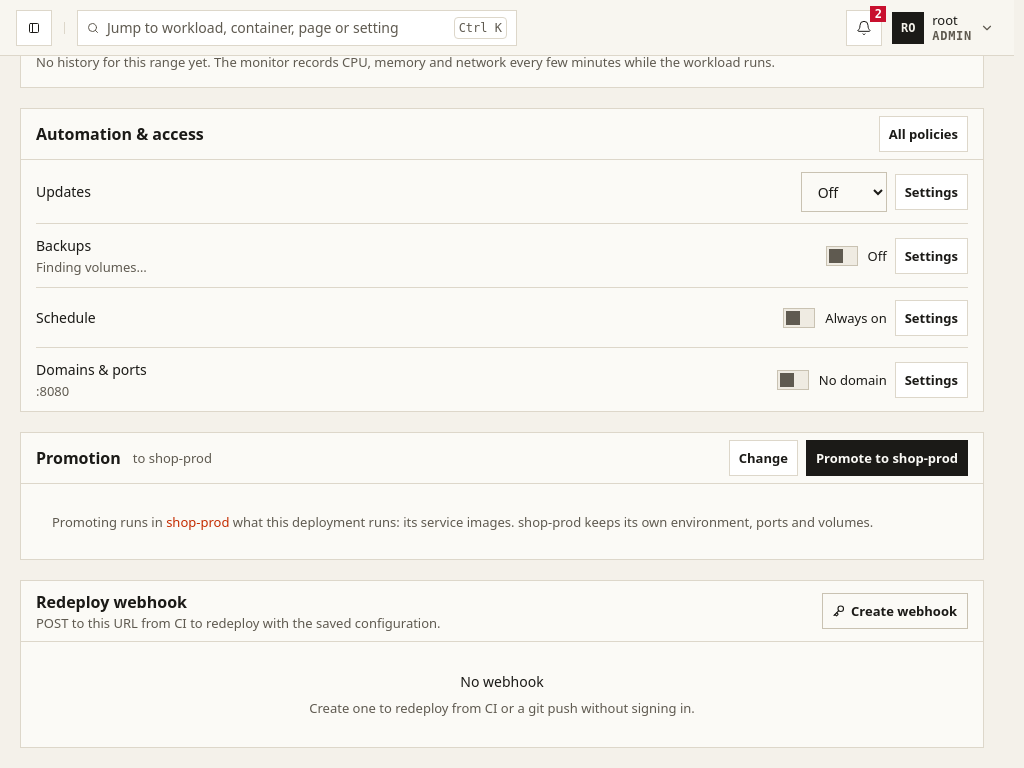
Test: promotion panel › shows the plan and promotes
(page scrolled)
Expected: the text "to shop-prod" is shown, x1=133 y1=448 x2=212 y2=468
Expected: the text "its own environment, ports and volumes" is shown, x1=581 y1=513 x2=873 y2=531
Click the button "Promote to shop-prod" at (887, 458), box x1=806 y1=440 x2=968 y2=476
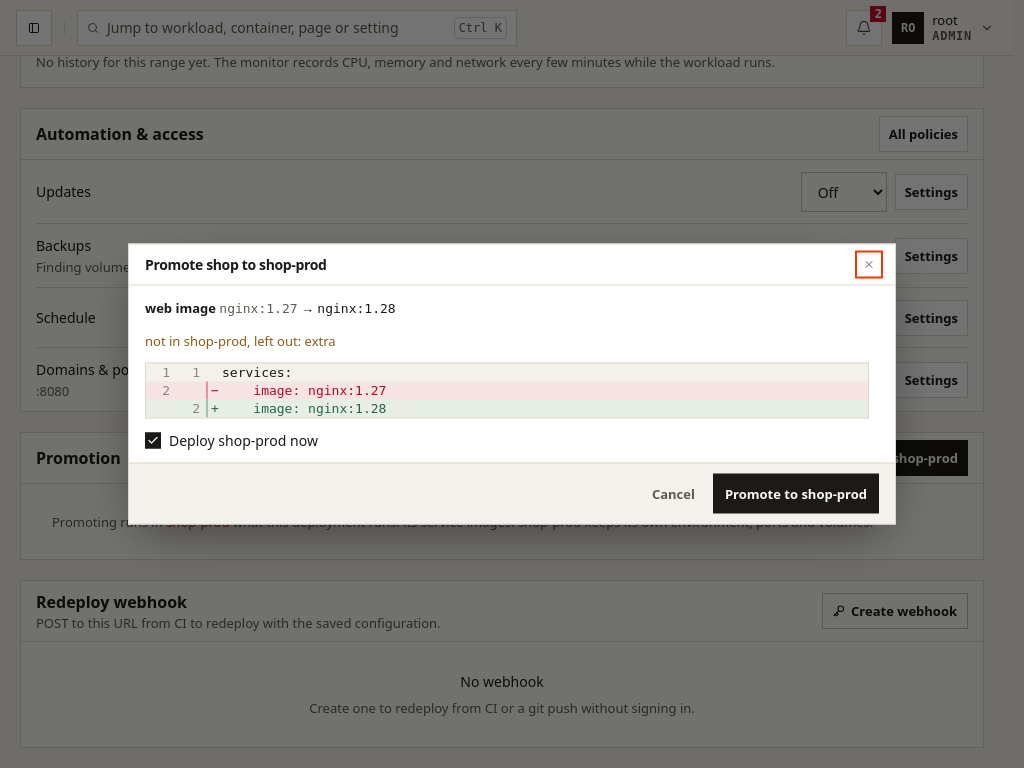
Expected: the text "web image" is shown, x1=145 y1=298 x2=216 y2=316
Expected: the text "not in shop-prod, left out: extra" is shown, x1=145 y1=332 x2=336 y2=350
Expected: the table named "Diff" is shown, x1=145 y1=362 x2=869 y2=418
Click the checkbox labelled "Deploy shop-prod now" at (153, 440), box x1=145 y1=432 x2=161 y2=448
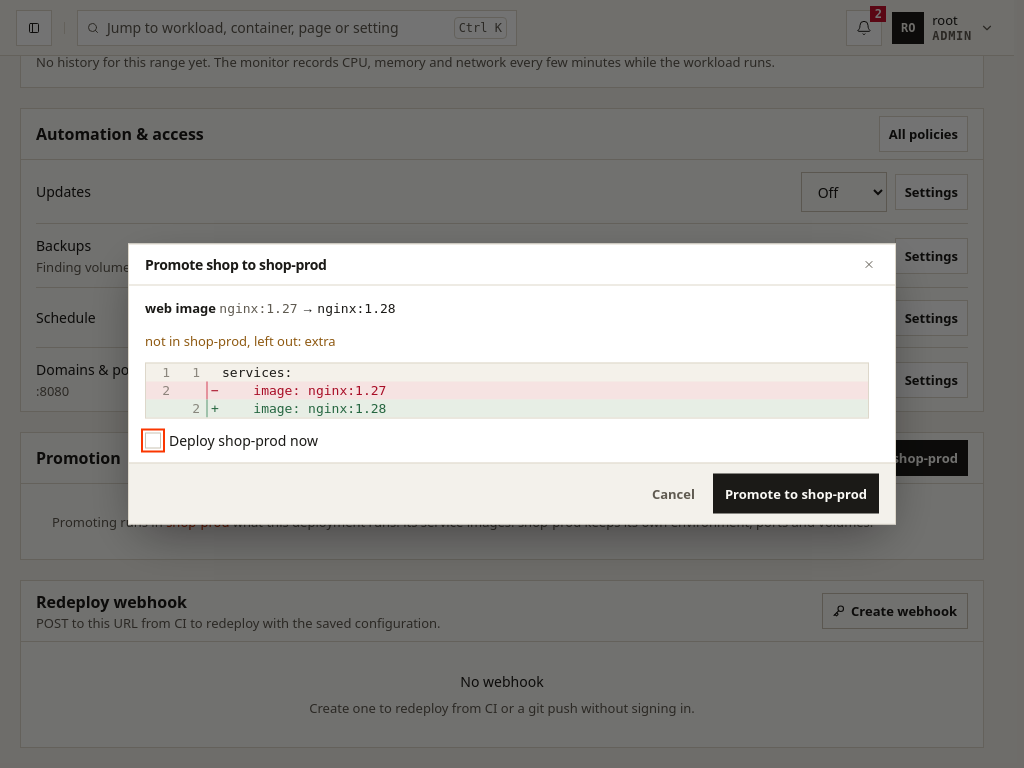
Click the button "Promote to shop-prod" at (796, 494), box x1=713 y1=474 x2=879 y2=514
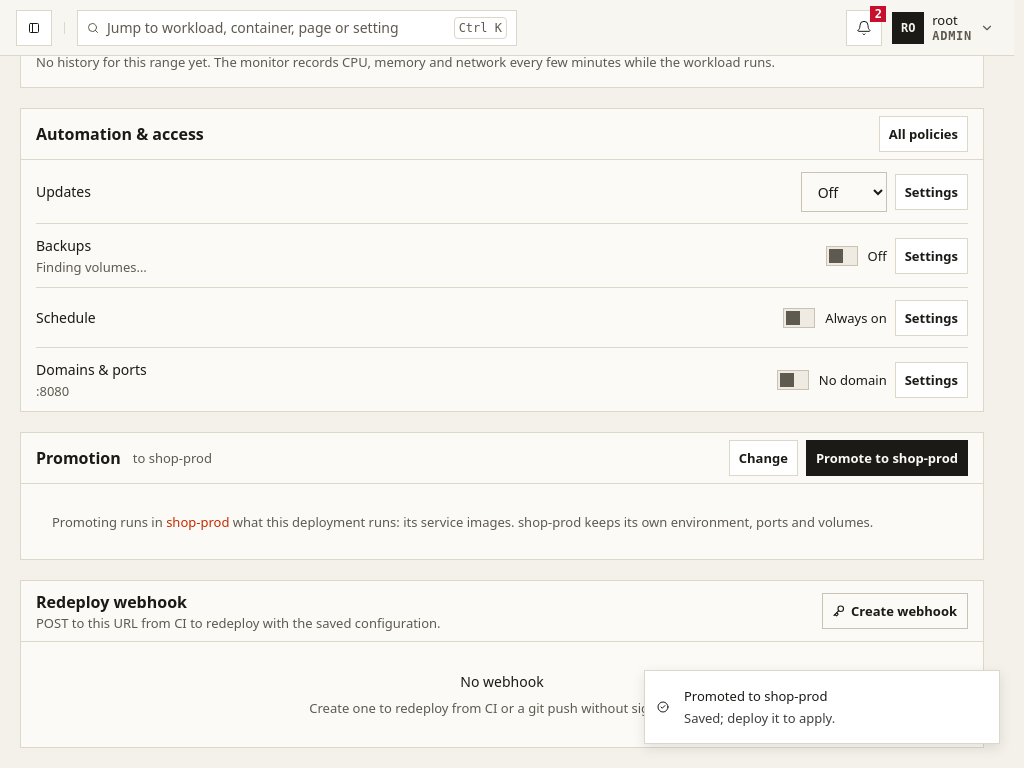
Expected: the text "Saved; deploy it to apply." is shown, x1=684 y1=709 x2=835 y2=727
